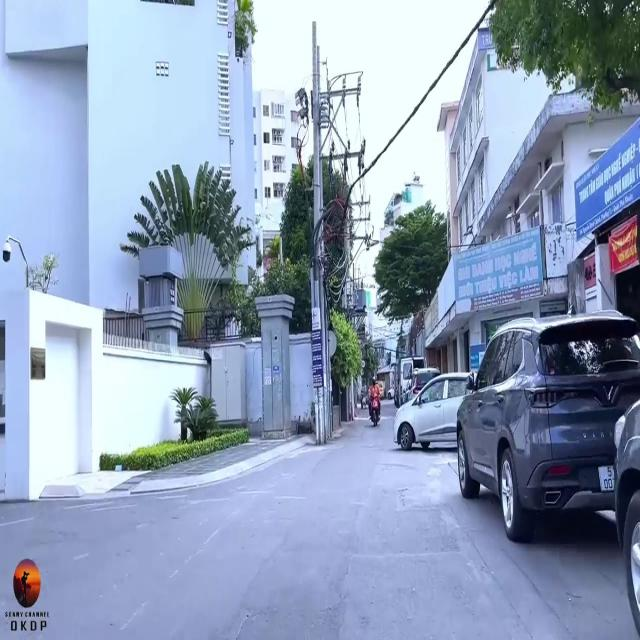bien_trang: (597, 462, 619, 492)
